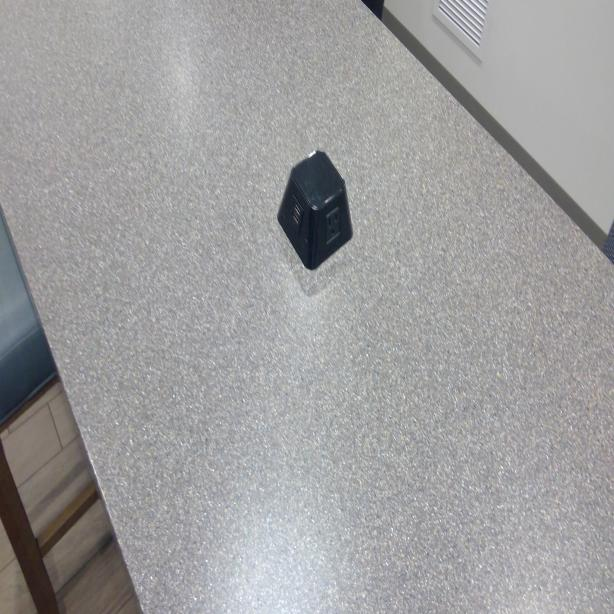typeb: (326, 207, 341, 240)
